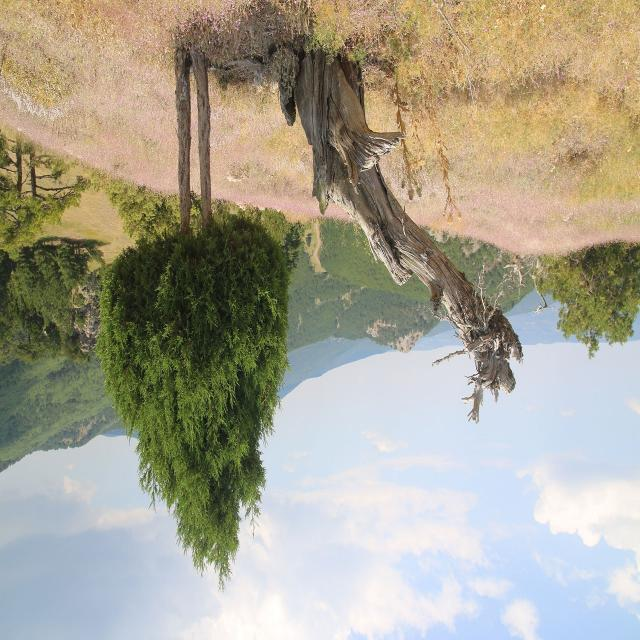tree: (98, 51, 288, 597), (537, 245, 639, 363), (0, 144, 86, 260), (0, 260, 16, 364), (43, 287, 77, 335), (56, 241, 88, 291), (18, 254, 40, 312), (15, 329, 45, 366), (33, 241, 61, 279)
